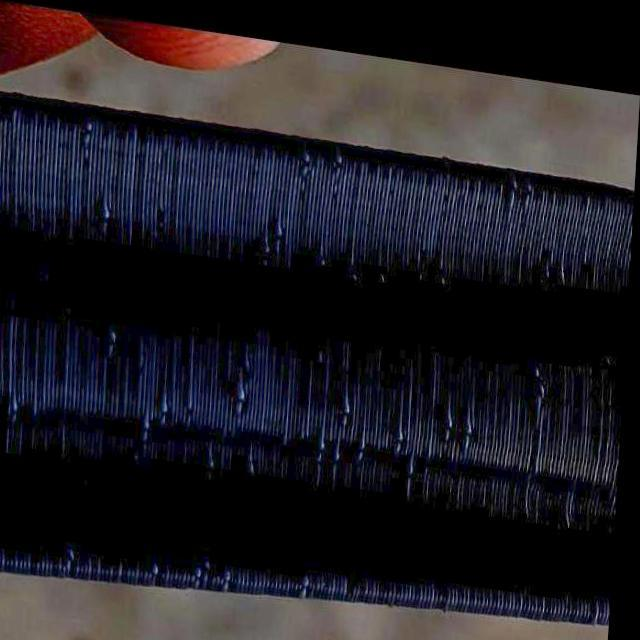zits: (192, 530, 225, 572), (0, 388, 28, 430), (204, 440, 230, 479), (149, 542, 178, 572), (92, 190, 117, 223), (339, 246, 366, 275), (102, 321, 125, 354), (399, 462, 428, 488), (338, 376, 362, 407), (460, 411, 486, 438), (79, 114, 104, 140), (131, 455, 156, 481), (391, 410, 418, 434), (248, 443, 270, 472), (35, 258, 59, 284), (371, 245, 394, 272), (80, 458, 102, 486), (160, 388, 182, 416), (561, 481, 579, 515), (557, 240, 577, 270), (312, 232, 335, 258), (598, 327, 621, 353), (234, 369, 252, 401), (460, 400, 482, 426), (539, 238, 558, 268), (63, 532, 82, 562), (297, 139, 316, 169), (271, 200, 291, 228), (255, 226, 276, 252), (524, 337, 544, 364), (535, 370, 554, 398), (402, 440, 426, 462), (437, 248, 454, 278), (298, 558, 319, 582), (442, 388, 460, 415), (124, 246, 139, 278), (142, 404, 159, 432), (439, 409, 458, 434), (356, 428, 374, 452), (414, 246, 428, 276), (315, 424, 330, 448), (336, 430, 350, 455)
